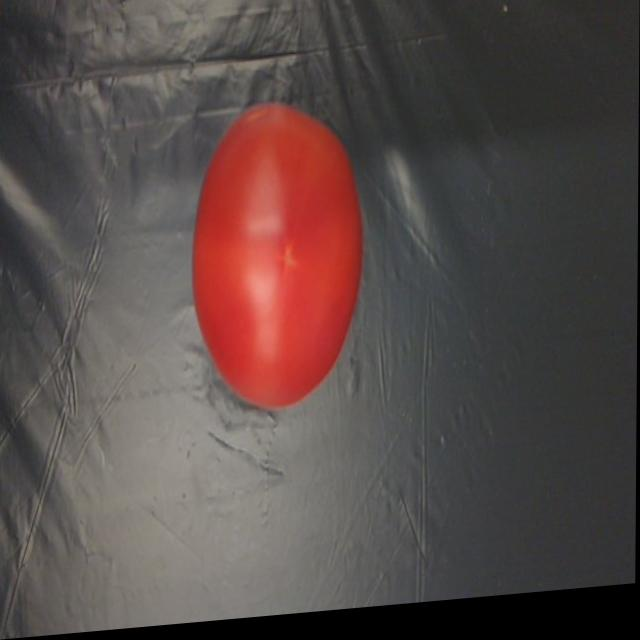kirmizi: (190, 99, 355, 421)
